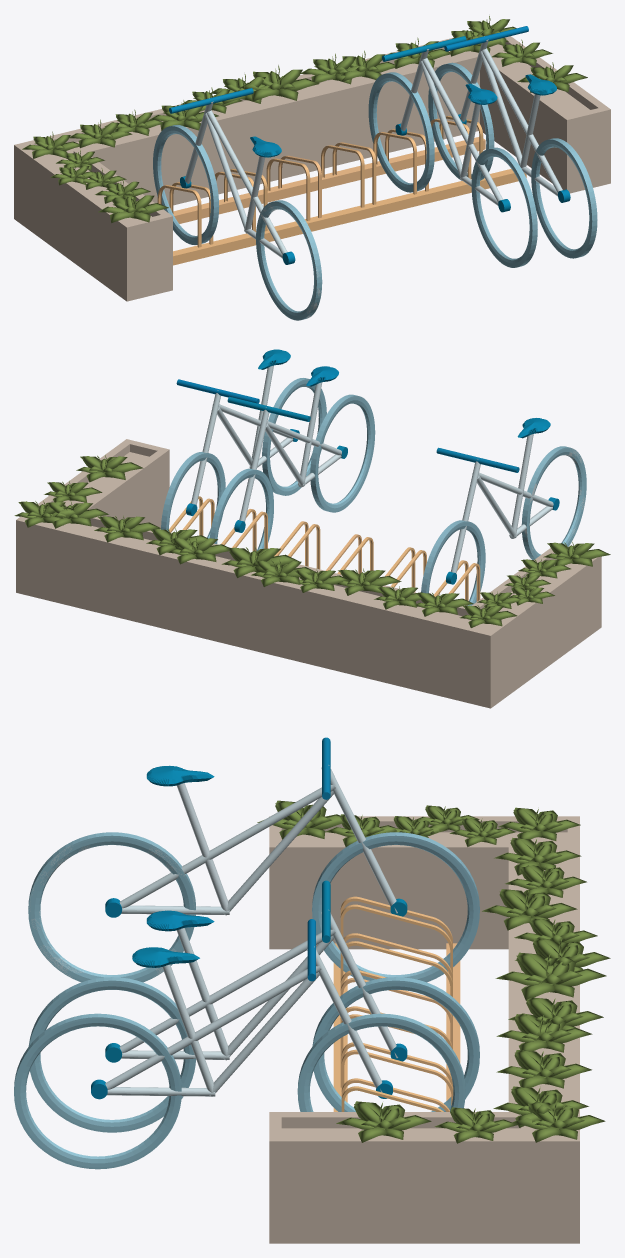
File: GreenBicycleRack.fbx
3 renders of one model, top to bottom at view 1: azimuth 30°, elevation 25°; view 2: azimuth 150°, elevation 25°; view 3: azimuth 270°, elevation 25°, orthographic. The views are drawn at different scales.
Visible parts, largest first — view 1: GreenBicycleRack; view 2: GreenBicycleRack; view 3: GreenBicycleRack.
Boxes of the visible parts, left/top/right/bottom form: GreenBicycleRack: left=14, top=16, right=610, bottom=320; GreenBicycleRack: left=14, top=349, right=610, bottom=708; GreenBicycleRack: left=14, top=737, right=610, bottom=1243.
Size of the model in its own units: 287 by 87.82 by 212.
